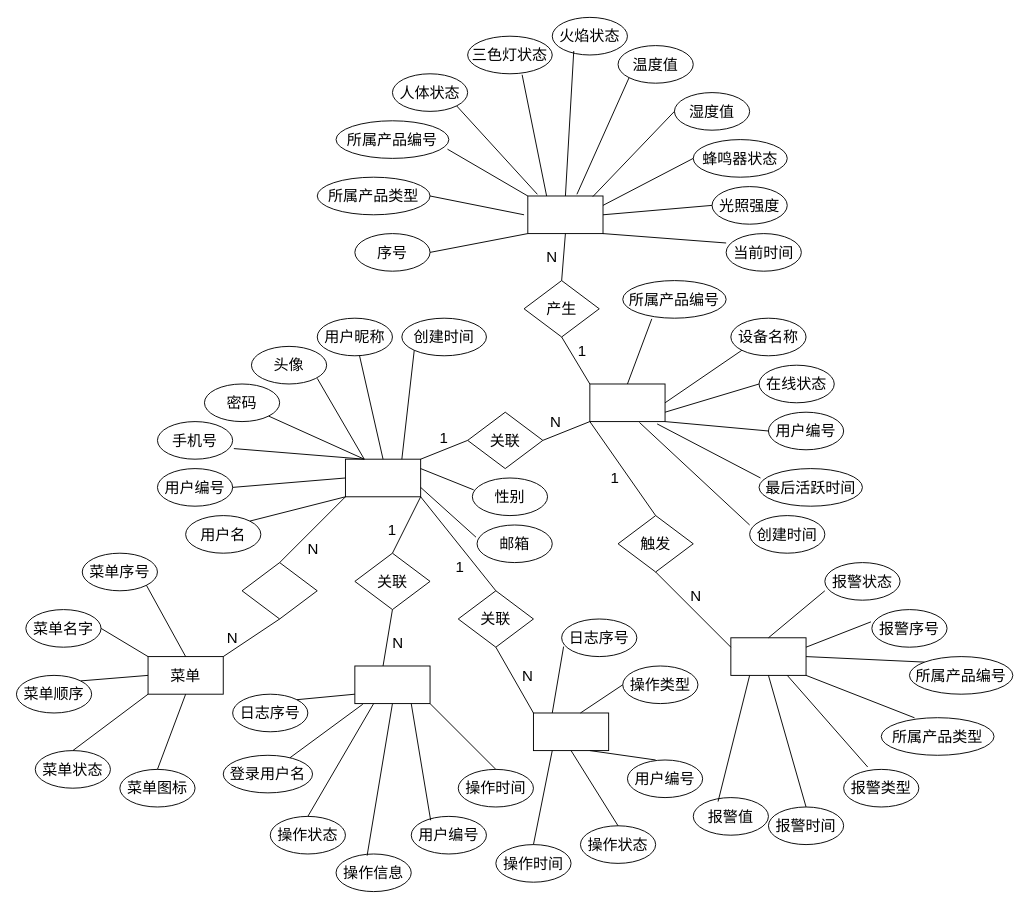
This 1029x909 diagram has some shape labels left out. Each missing label, with the centre of its shape:
"报警信息" goes at point (768, 656).
"操作日志" goes at point (571, 731).
"用户" goes at point (383, 477).
"登录日志" goes at point (392, 684).
"管理" goes at point (279, 590).
"设备" goes at point (627, 402).
"设备数据" goes at point (565, 214).
